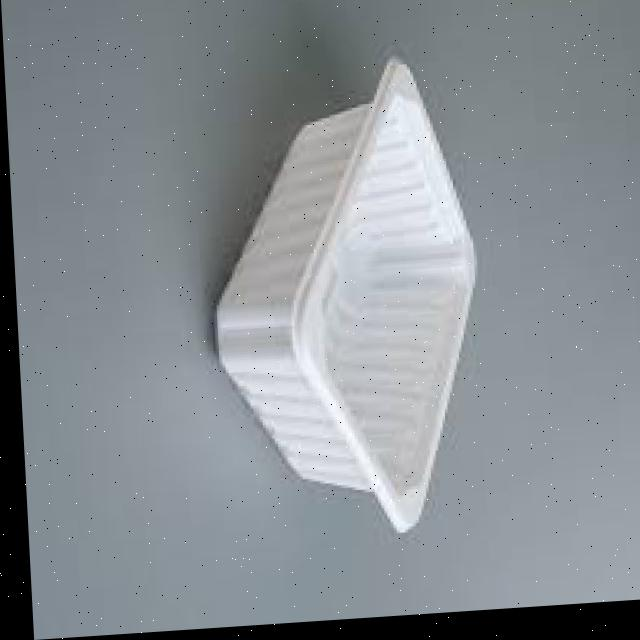disposable: (172, 55, 497, 574)
